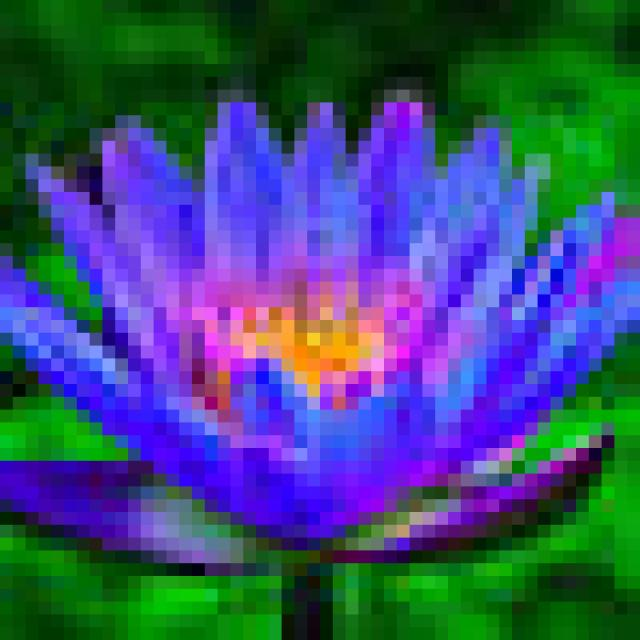lotus: (5, 48, 640, 630)
